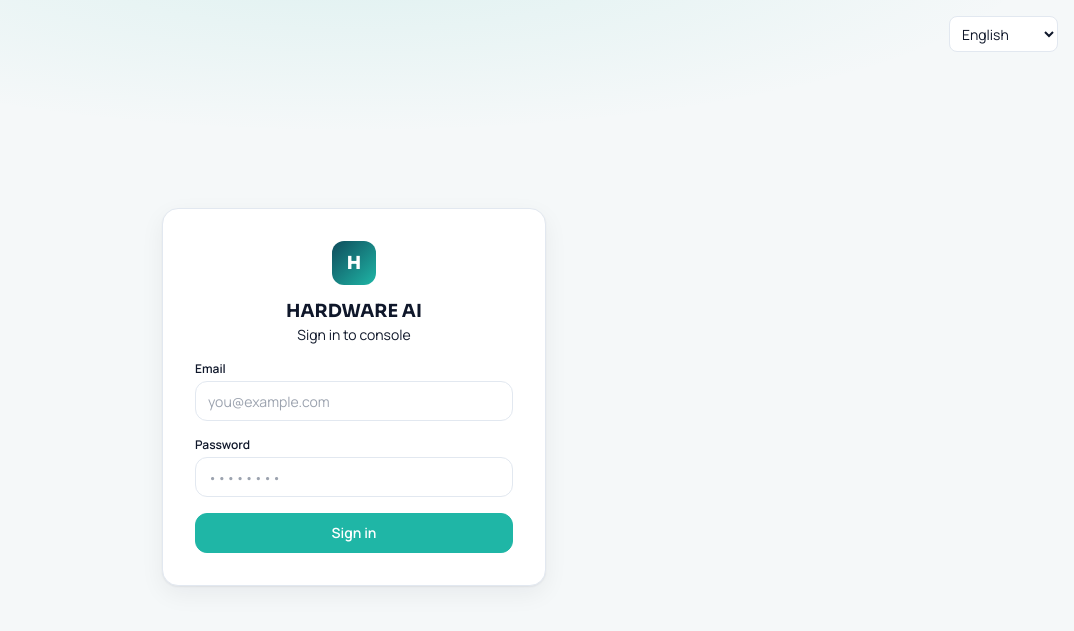
Test: Login › does not navigate when authentication is rejected
Click the button at (354, 533), box [195, 513, 513, 553]
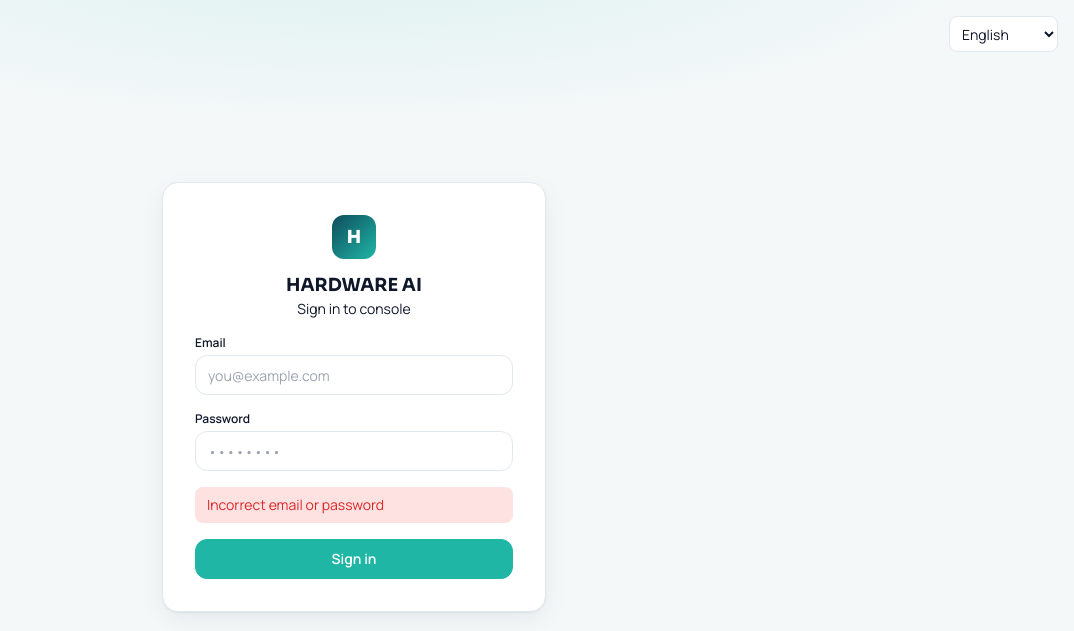
Now the text "Incorrect email or password" is shown, box [195, 487, 513, 523]
